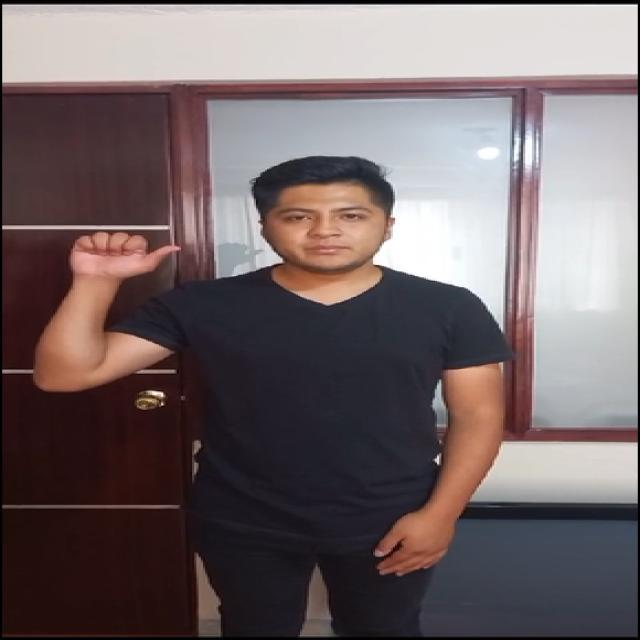A: (50, 224, 236, 299)
